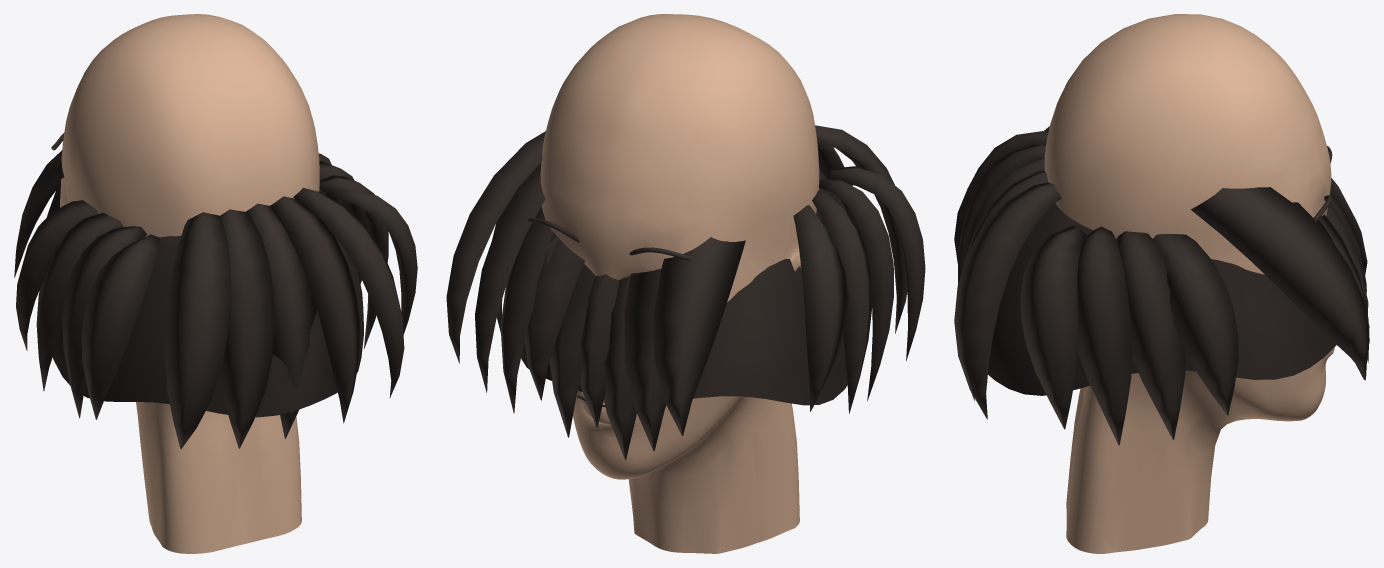
The model's file is civilian.glb.
3 views of the same model, side by side, from view 1: azimuth 30°, elevation 25°; view 2: azimuth 150°, elevation 25°; view 3: azimuth 270°, elevation 25° (orthographic). The views are drawn at different scales.
Parts seen in each view (by area): view 1: hair, head; view 2: head, hair; view 3: hair, head.
Boxes of the visible parts, bbox=[...] form: hair: bbox=[14, 150, 417, 448]; head: bbox=[51, 14, 319, 553]; head: bbox=[528, 14, 819, 553]; hair: bbox=[446, 125, 925, 459]; hair: bbox=[954, 126, 1369, 445]; head: bbox=[1044, 14, 1334, 553].
Size of the model in its own units: 0.2709 by 0.3797 by 0.2903.
